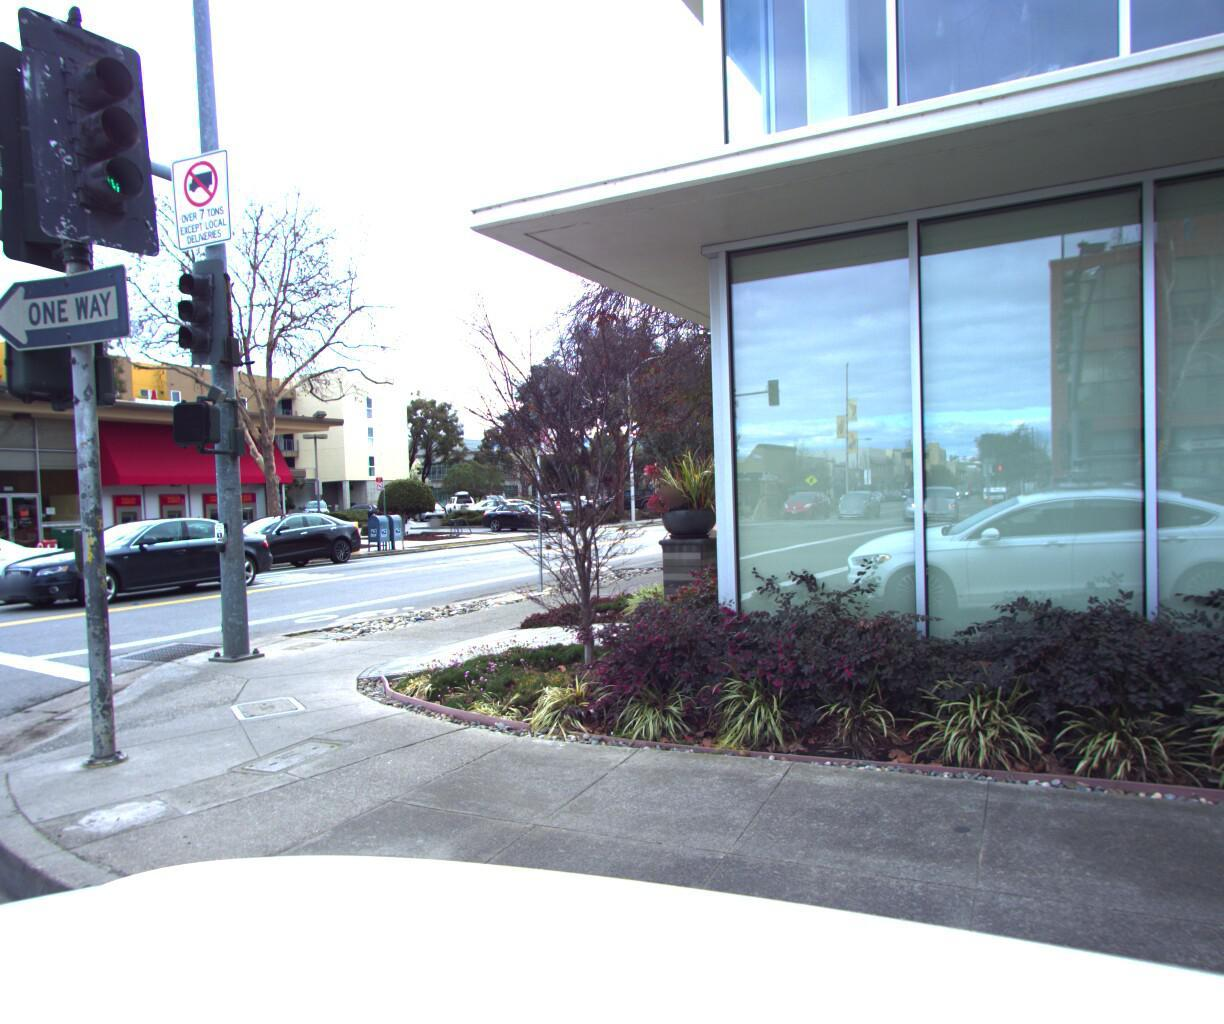car: (0, 508, 286, 613), (174, 505, 375, 575), (0, 520, 81, 640), (481, 497, 580, 529)
